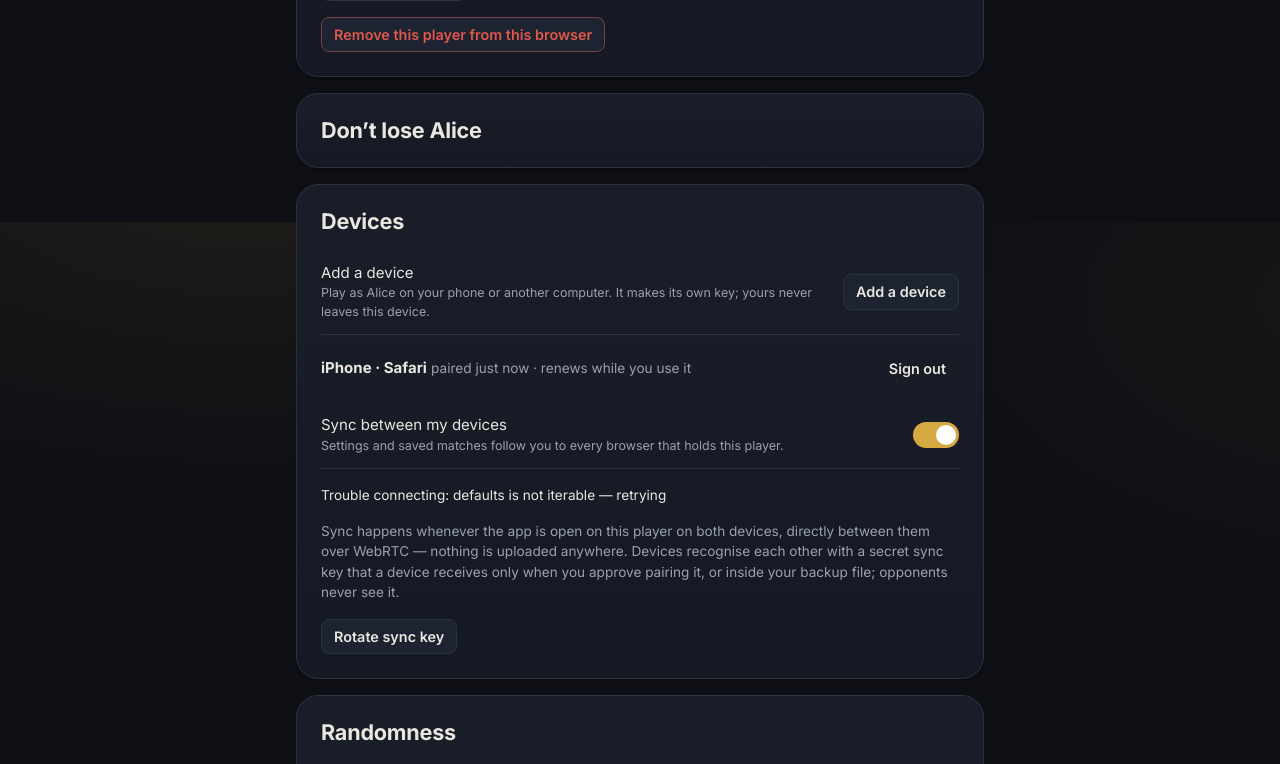
Test case: SettingsScreen transfer › signs out a paired device: it leaves the list and stops being renewed
(page scrolled)
Expected: the list with test id "paired-devices" shows "iPhone · Safari", [321, 358, 427, 377]
Click the button with test id "sign-out-1": click(917, 369) [876, 351, 959, 386]
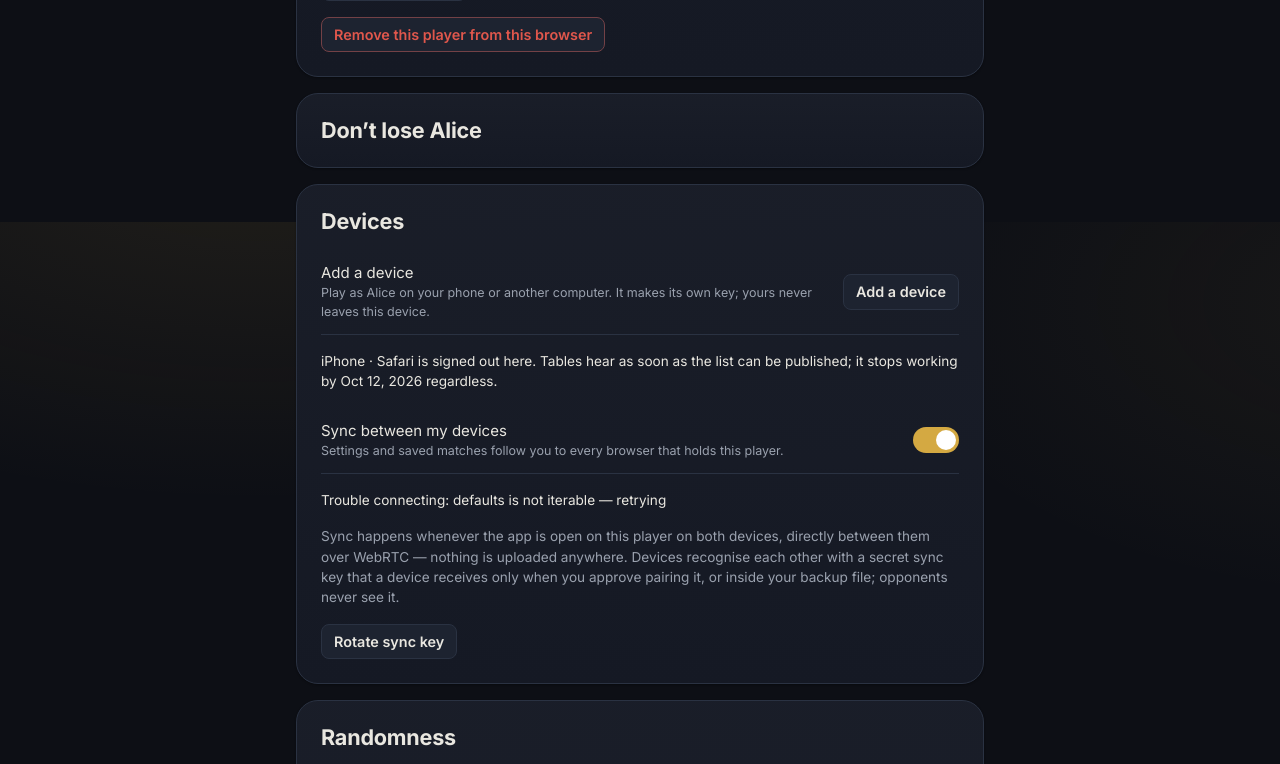
Expected: the message with test id "sign-out-note" shows "signed out here", [321, 353, 958, 389]
Expected: the list with test id "paired-devices" is gone
